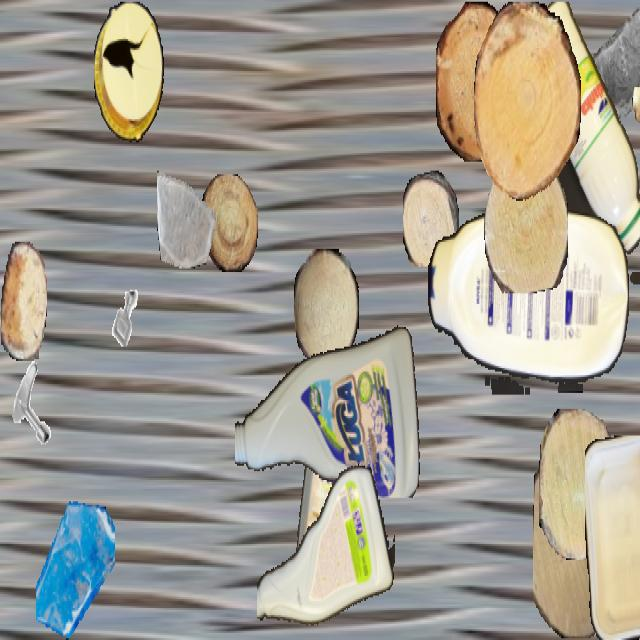glass: (36, 500, 114, 638), (588, 2, 640, 130), (157, 164, 215, 266)
metal: (6, 356, 60, 452), (598, 439, 640, 546), (104, 279, 148, 357), (0, 176, 5, 286), (0, 80, 3, 165)
plastic: (428, 210, 628, 394), (235, 313, 423, 498), (520, 1, 640, 282), (257, 457, 395, 638), (291, 386, 357, 602), (585, 436, 640, 638), (94, 2, 164, 140)
wood: (474, 2, 580, 201), (533, 439, 621, 638), (436, 2, 518, 162), (484, 150, 568, 292), (539, 409, 619, 558), (294, 249, 358, 363), (1, 242, 47, 359), (201, 174, 257, 270), (403, 170, 459, 266), (631, 87, 640, 183)
